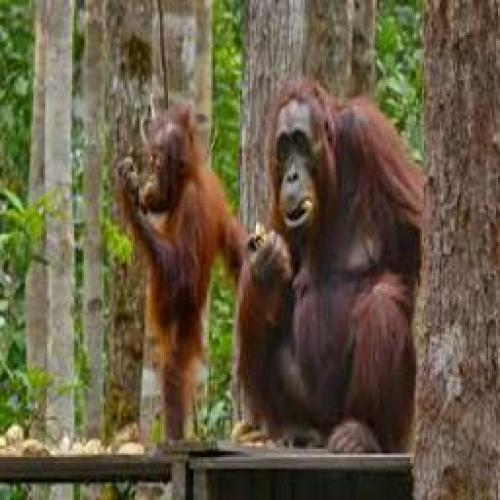orangutan-endangered: (236, 82, 410, 451), (115, 116, 240, 455)
